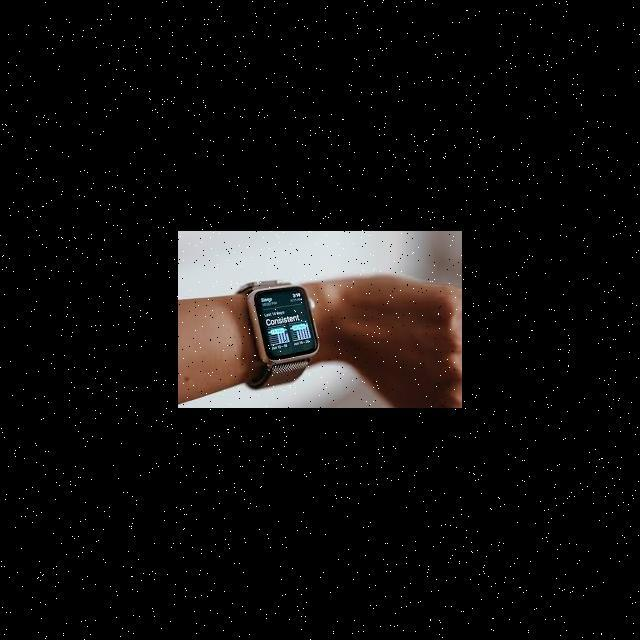watch: (237, 268, 338, 390)
